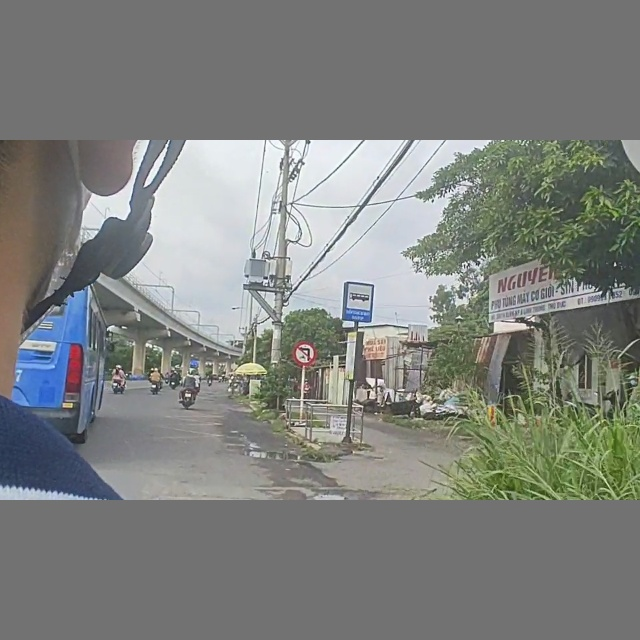I.434a: (342, 281, 375, 325)
P.123a: (293, 341, 317, 367)
